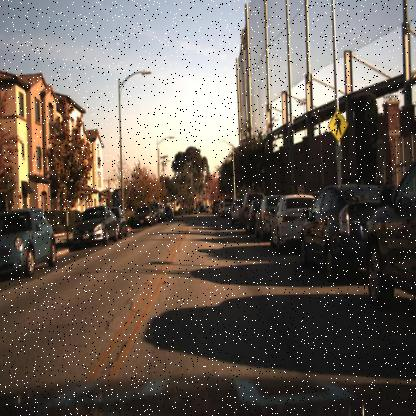car: (294, 178, 367, 290), (366, 156, 416, 318), (0, 209, 58, 280), (272, 191, 320, 257), (68, 200, 117, 254), (266, 193, 305, 258), (257, 192, 274, 240), (115, 202, 130, 244), (132, 203, 152, 230)
